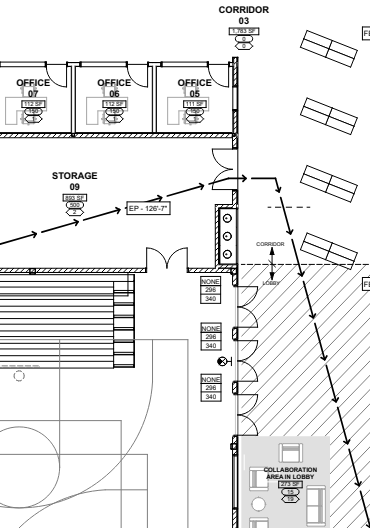door: (124, 58, 150, 90), (206, 58, 231, 91), (44, 57, 69, 89)
double door: (208, 146, 243, 193), (144, 245, 191, 278), (235, 283, 261, 331), (234, 392, 261, 438), (233, 339, 260, 384)
